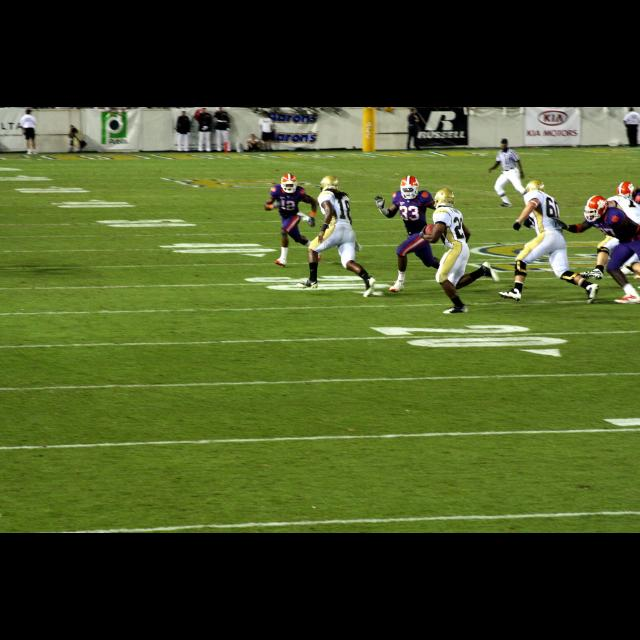Football: (422, 222, 436, 235)
